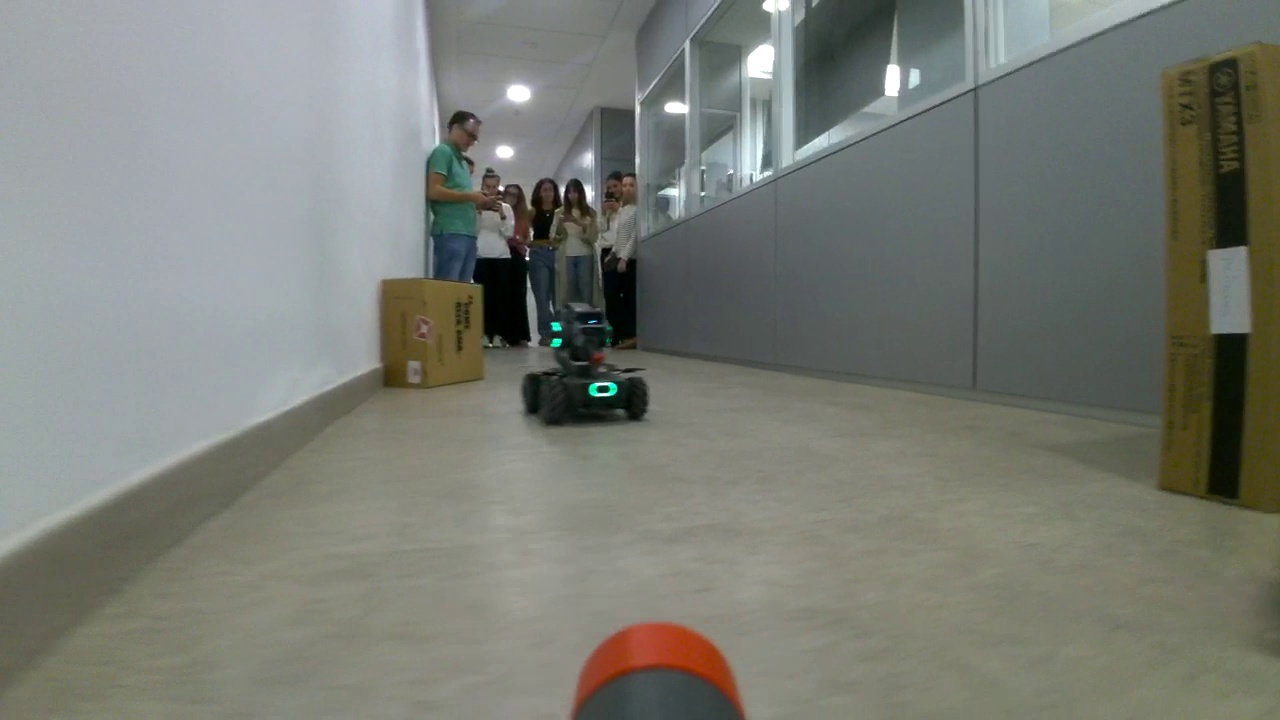robot: (517, 300, 653, 430)
